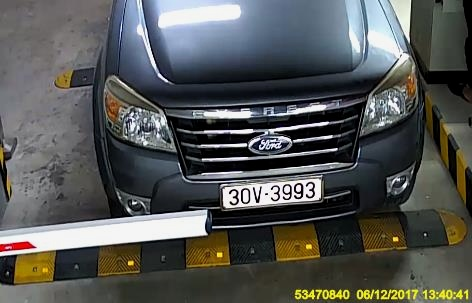plate: (223, 177, 329, 210)
